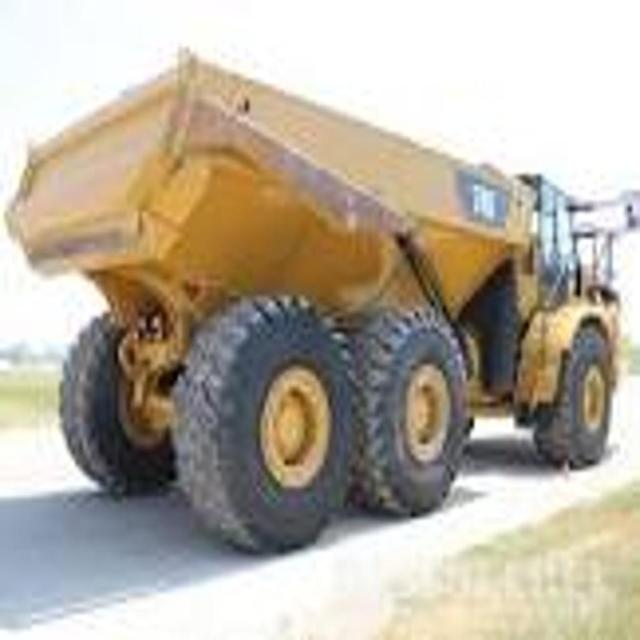dump_truck: (10, 49, 640, 574)
